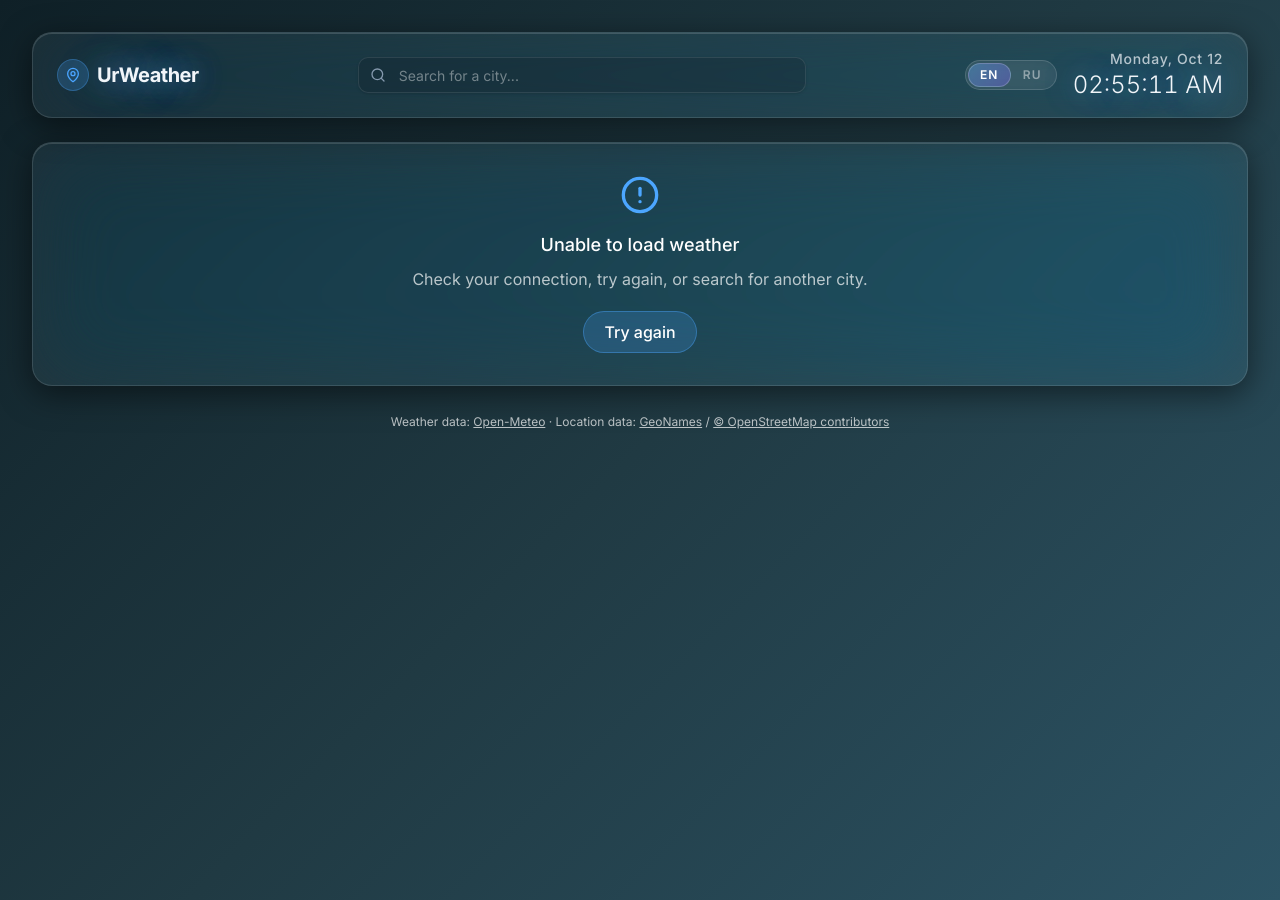
Scenario: Dashboard recovery controls › translates error and retry controls after an initial failure
Check: the message is shown, box [32,142,1248,386]
Click the button "RU" at (1032,75), box [1011,63,1054,87]
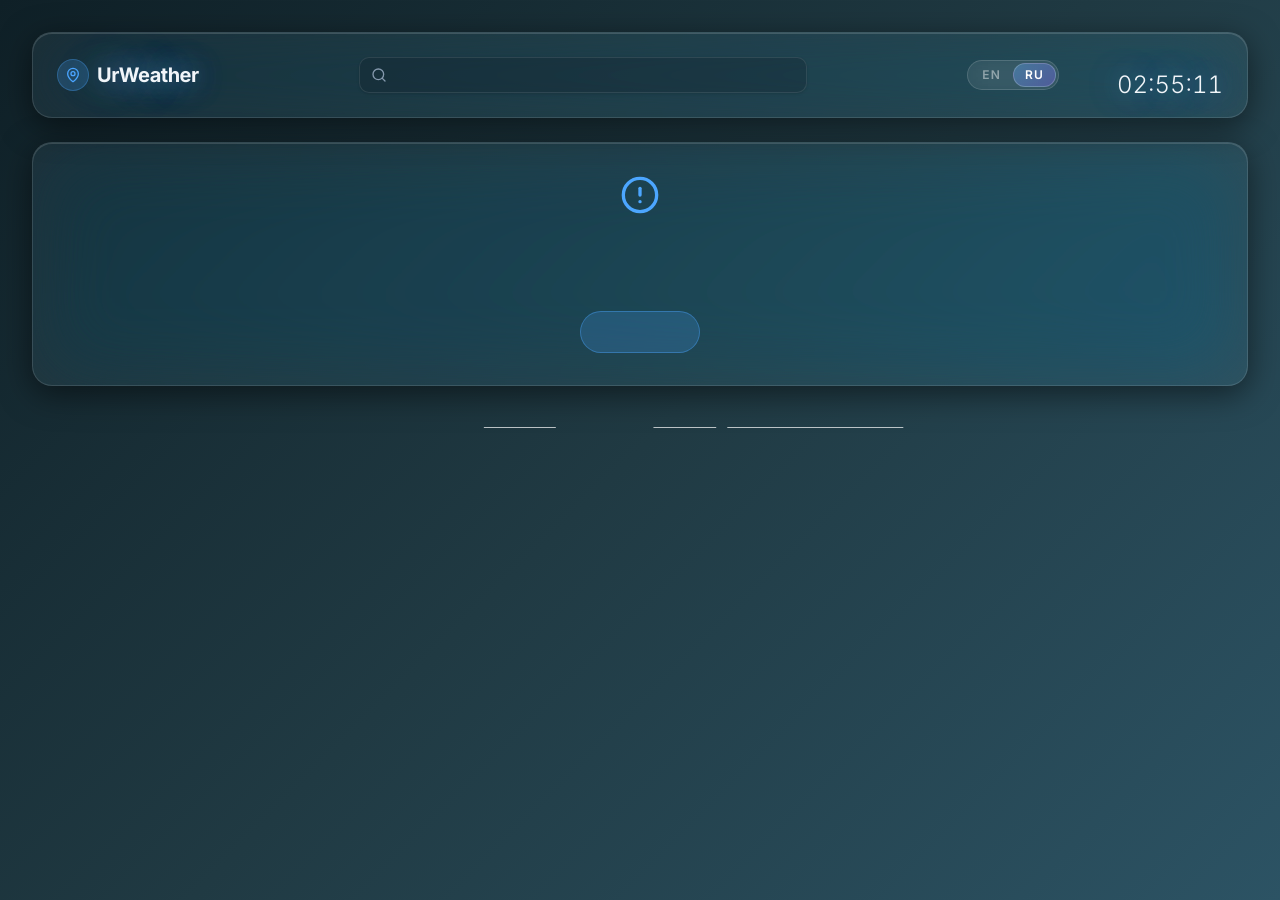
Check: the button "Повторить" is shown, box [580,311,700,353]
Check: the field labelled "Поиск города..." is shown, box [359,57,807,93]
